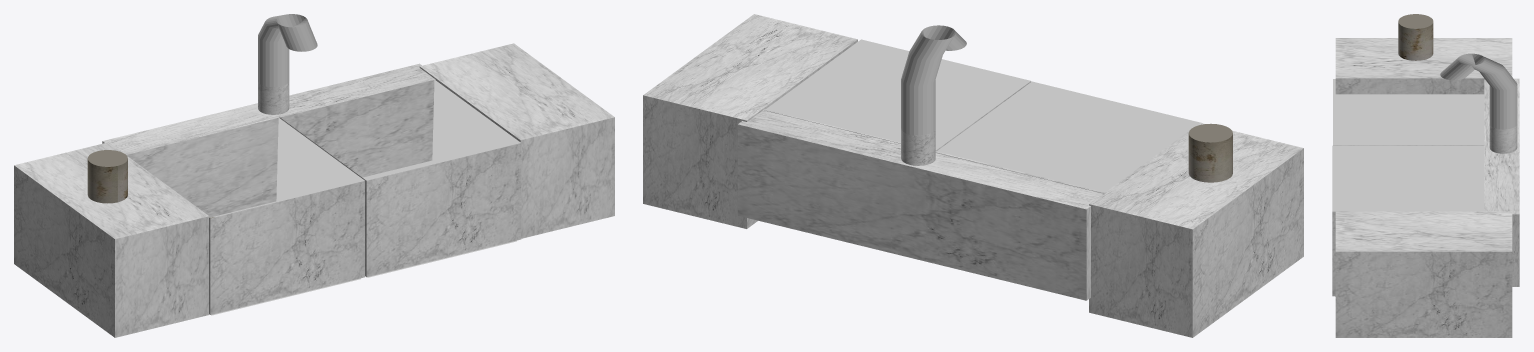
The model's file is kitchen-sink.fbx.
The picture shows the model from 3 angles, left to right: view 1: azimuth 30°, elevation 25°; view 2: azimuth 150°, elevation 25°; view 3: azimuth 270°, elevation 25°; orthographic projection. The views are drawn at different scales.
Parts seen in each view (by area): view 1: Box3, Box2, Box, Box1, Box4, Cylinder, Cylinder1; view 2: Box2, Box3, Box4, Box1, Box, Cylinder, Cylinder1; view 3: Box4, Box, Box1, Box3, Box2, Cylinder, Cylinder1.
Boxes of the visible parts, x1,y1,x2,y2 form: Box3: (14, 142, 209, 337); Box2: (102, 63, 435, 217); Box: (279, 78, 521, 277); Box1: (125, 116, 364, 315); Box4: (419, 43, 614, 238); Cylinder: (258, 14, 317, 114); Cylinder1: (87, 150, 127, 203); Box2: (737, 109, 1104, 300); Box3: (1089, 123, 1303, 337); Box4: (643, 14, 857, 228); Box1: (935, 81, 1201, 193); Box: (764, 39, 1031, 151); Cylinder: (901, 25, 966, 165); Cylinder1: (1188, 123, 1232, 182); Box4: (1335, 211, 1512, 337); Box: (1332, 145, 1486, 296); Box1: (1333, 79, 1484, 145); Box3: (1335, 38, 1512, 94); Box2: (1484, 78, 1519, 286); Cylinder: (1440, 53, 1517, 153); Cylinder1: (1398, 14, 1433, 60).
Bounding box in the file's own units: 14.32 × 5.47 × 5.31.
Materials: 2 (2 with a texture image).
